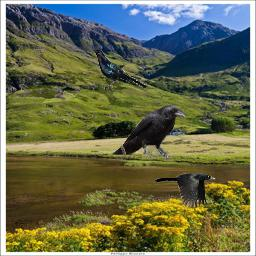Crow: (109, 104, 186, 162), (92, 49, 147, 91), (155, 172, 216, 209)
